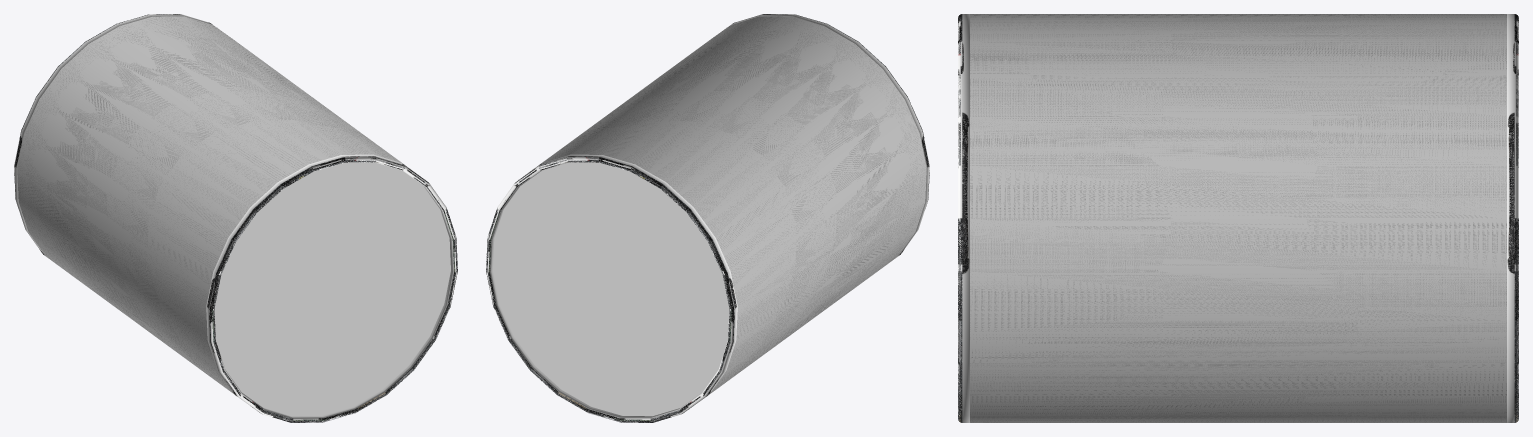
The model's file is model_scale.obj.
3 views of the same model, side by side, from view 1: azimuth 30°, elevation 25°; view 2: azimuth 150°, elevation 25°; view 3: azimuth 270°, elevation 25° (orthographic). The views are drawn at different scales.
Parts seen in each view (by area): view 1: mesh15_mesh15-geometry, mesh8_mesh8-geometry, mesh1_mesh1-geometry; view 2: mesh15_mesh15-geometry, mesh1_mesh1-geometry, mesh8_mesh8-geometry; view 3: mesh15_mesh15-geometry, mesh1_mesh1-geometry, mesh8_mesh8-geometry.
Part boxes in pixels (x1=…): mesh15_mesh15-geometry: x1=17, y1=16, x2=416, y2=394; mesh8_mesh8-geometry: x1=206, y1=154, x2=457, y2=422; mesh1_mesh1-geometry: x1=14, y1=14, x2=212, y2=255; mesh15_mesh15-geometry: x1=527, y1=16, x2=926, y2=394; mesh1_mesh1-geometry: x1=486, y1=154, x2=737, y2=422; mesh8_mesh8-geometry: x1=731, y1=14, x2=929, y2=255; mesh15_mesh15-geometry: x1=970, y1=14, x2=1506, y2=422; mesh1_mesh1-geometry: x1=1507, y1=14, x2=1518, y2=422; mesh8_mesh8-geometry: x1=958, y1=14, x2=969, y2=422.
Bounding box in the file's own units: 0.0678 × 0.0678 × 0.0934.
